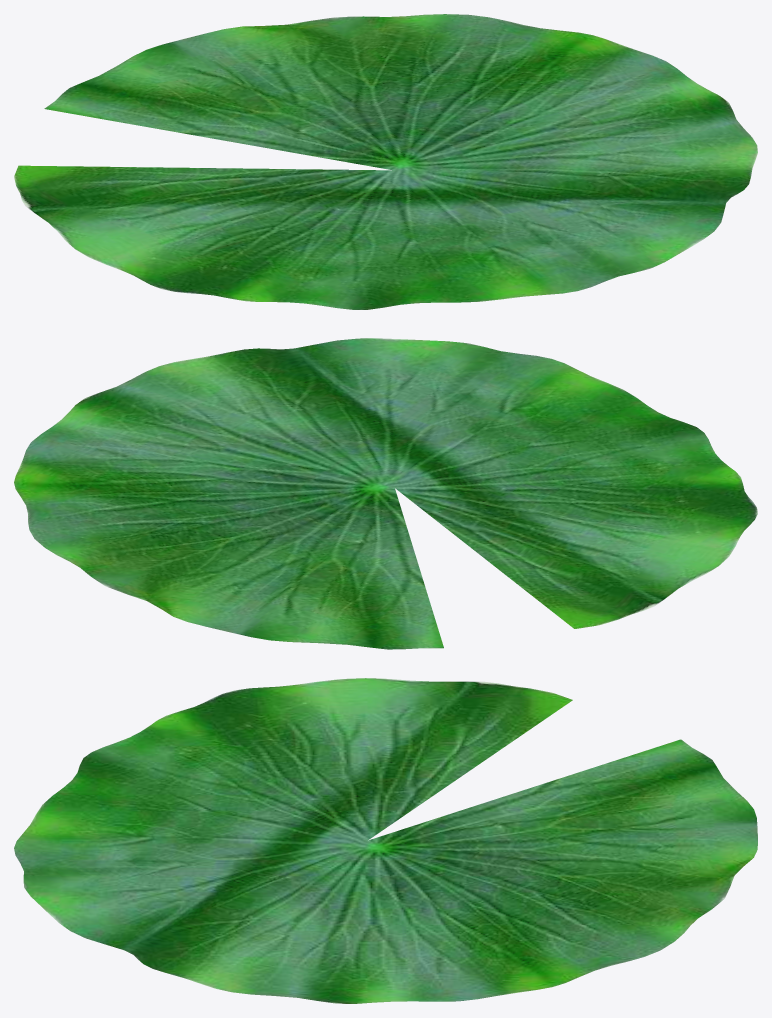
File: VEG0410004.fbx
3 renders of one model, top to bottom at view 1: azimuth 30°, elevation 25°; view 2: azimuth 150°, elevation 25°; view 3: azimuth 270°, elevation 25°, orthographic. The views are drawn at different scales.
Parts seen in each view (by area): view 1: smVEG0410004; view 2: smVEG0410004; view 3: smVEG0410004.
Boxes of the visible parts, x1,y1,x2,y2 form: smVEG0410004: [14, 14, 757, 309]; smVEG0410004: [14, 338, 757, 649]; smVEG0410004: [14, 678, 757, 1003].
Bounding box in the file's own units: 41.63 × 6.49e-06 × 40.19.
1 material, 1 textured.
